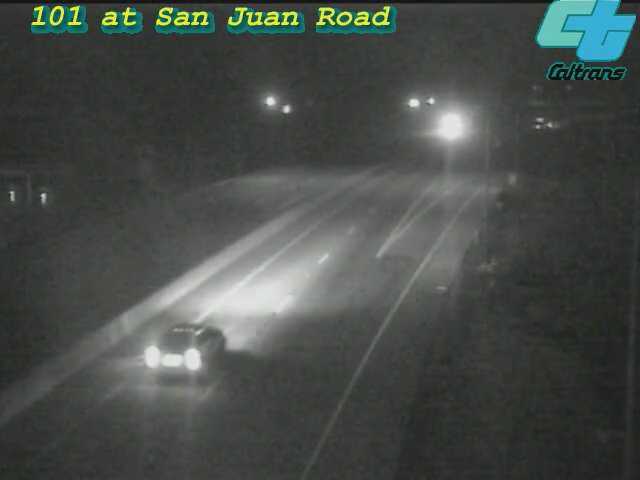vehicle: (139, 287, 249, 397), (423, 102, 473, 152), (517, 97, 567, 147)
